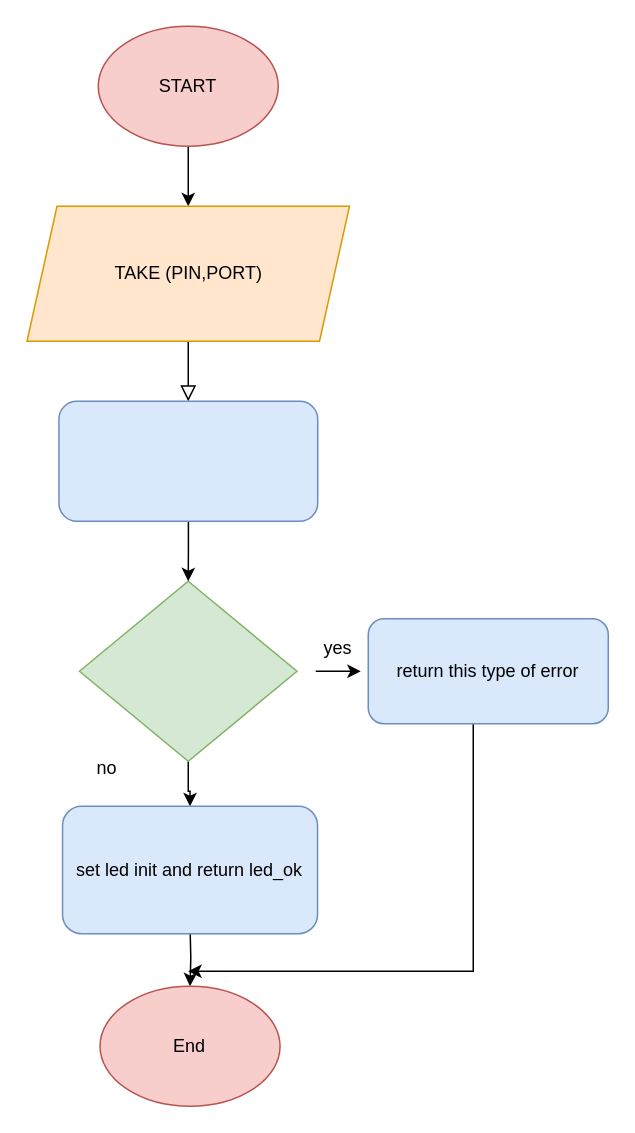
Image size: 635x1133. Some labels were removed from this diagram. Here are the shapes that lost their labels. From the top down, the box of each, then its label:
(57, 400, 318, 521): Dio_init(pin,port,output)
(78, 580, 297, 761): if Dio_init return error ?
